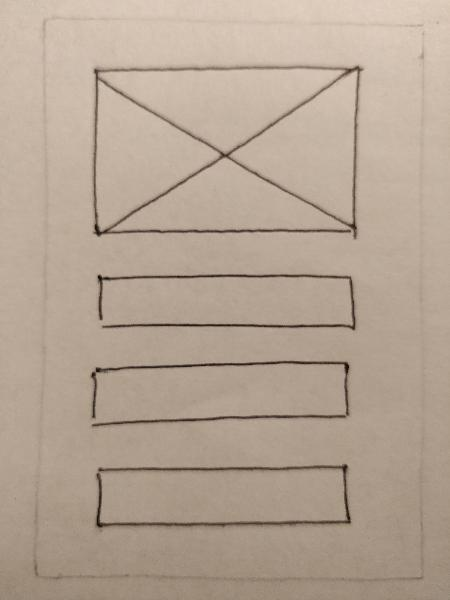image: (84, 57, 365, 249)
text_input: (80, 452, 364, 535), (85, 353, 354, 432), (87, 270, 360, 334)
